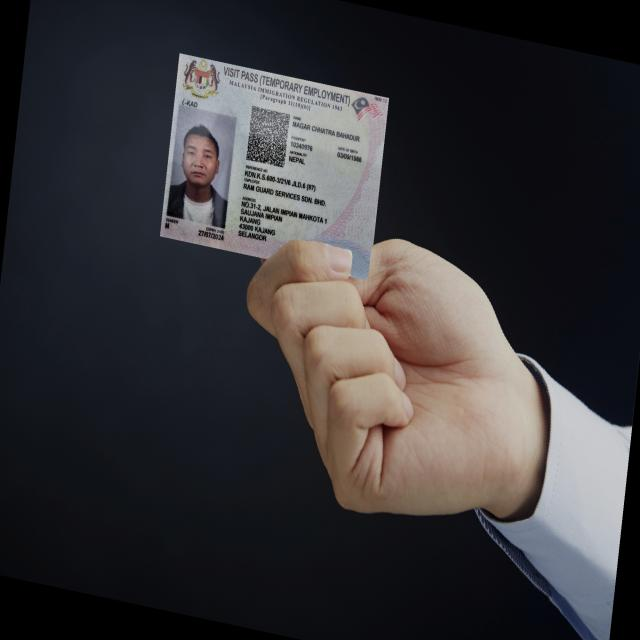ikad-temp: (159, 51, 389, 280)
